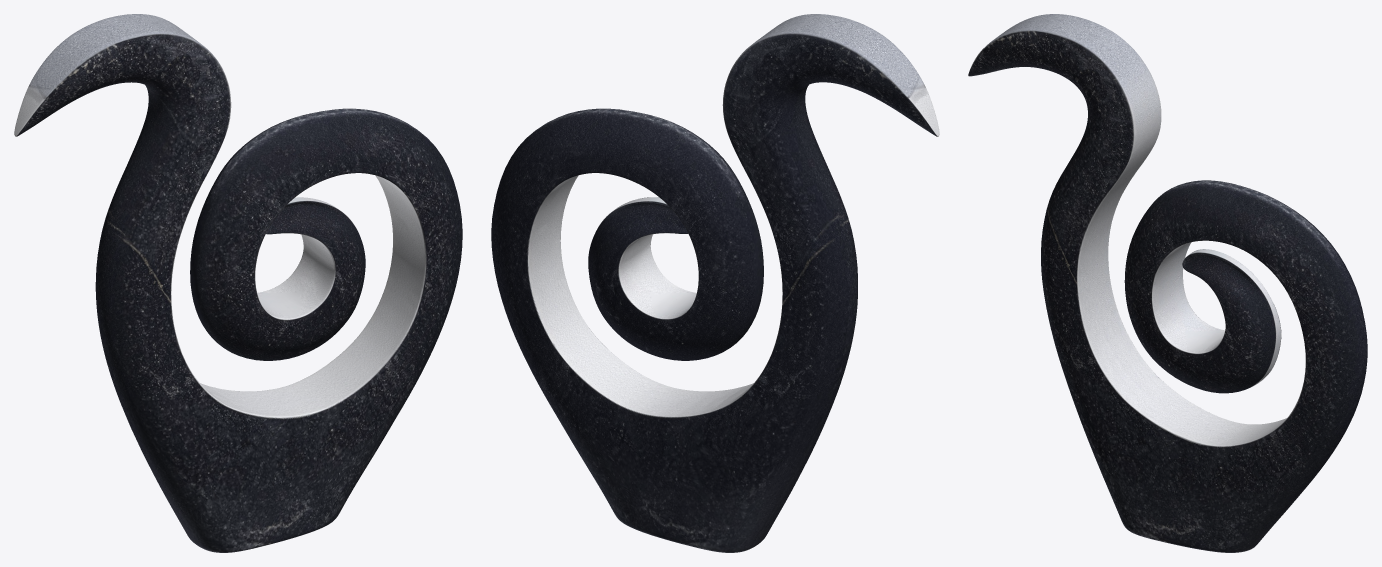
File: coil-uploaded-v1.glb
3 views of the same model, side by side, from view 1: azimuth 30°, elevation 25°; view 2: azimuth 150°, elevation 25°; view 3: azimuth 330°, elevation 25° (orthographic). The views are drawn at different scales.
Bounding box in the file's own units: 1.64 × 1.9 × 0.2403.
Materials: 1 (1 with a texture image).
